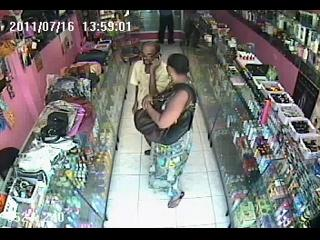Normal: (135, 52, 197, 209), (129, 42, 171, 114), (157, 10, 176, 44), (75, 50, 109, 66)
